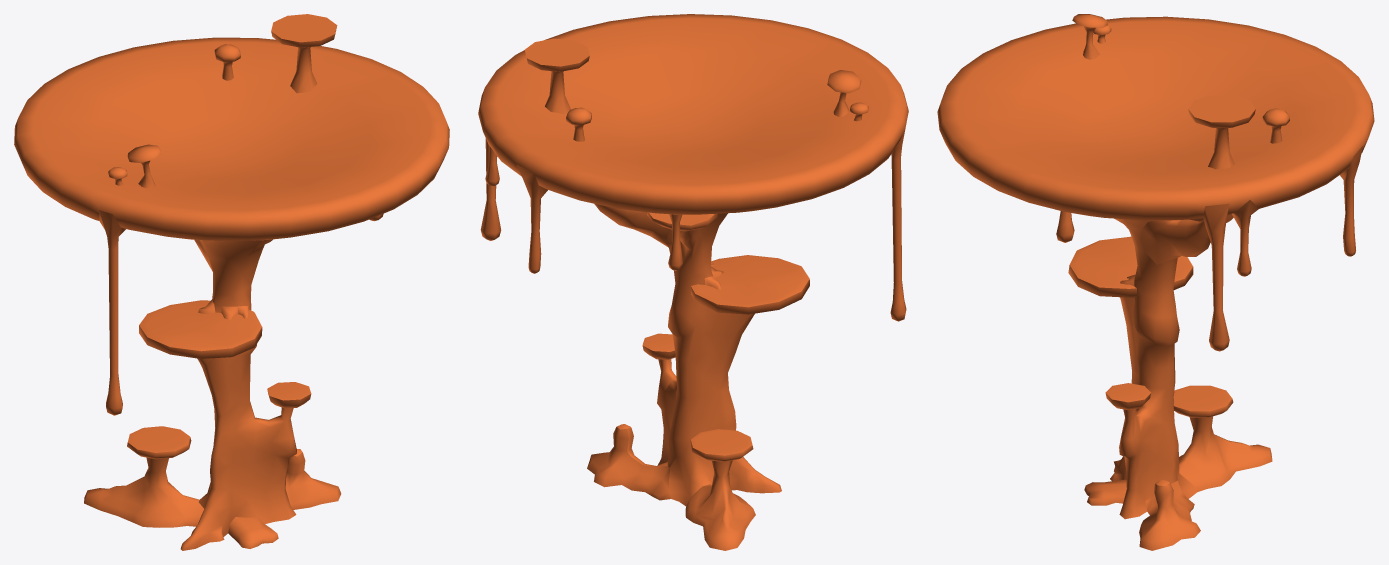
File: plant_3.fbx
3 views of the same model, side by side, from view 1: azimuth 30°, elevation 25°; view 2: azimuth 150°, elevation 25°; view 3: azimuth 270°, elevation 25° (orthographic).
Parts seen in each view (by area): view 1: plant_3; view 2: plant_3; view 3: plant_3.
Boxes of the visible parts, x1,y1,x2,y2 form: plant_3: (14,14,449,550); plant_3: (478,14,908,550); plant_3: (937,14,1374,550).
Size of the model in its own units: 201 by 225 by 201.
